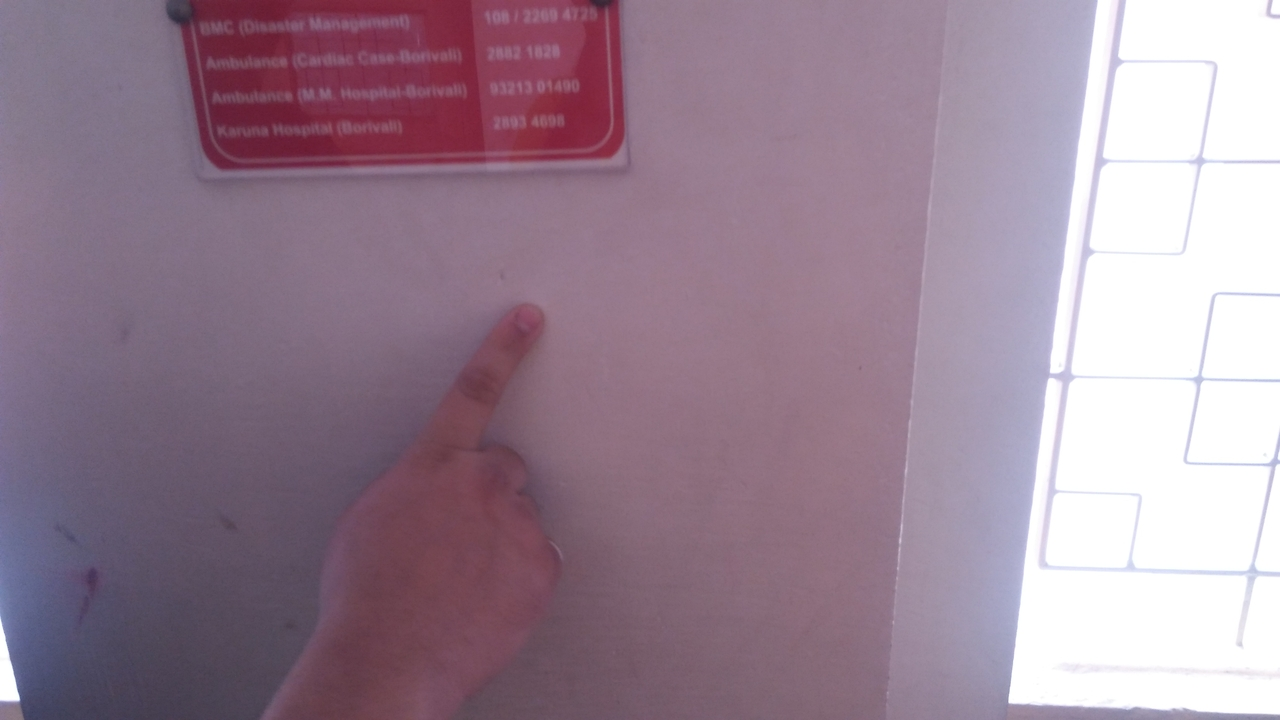fingertip: (484, 294, 550, 350)
